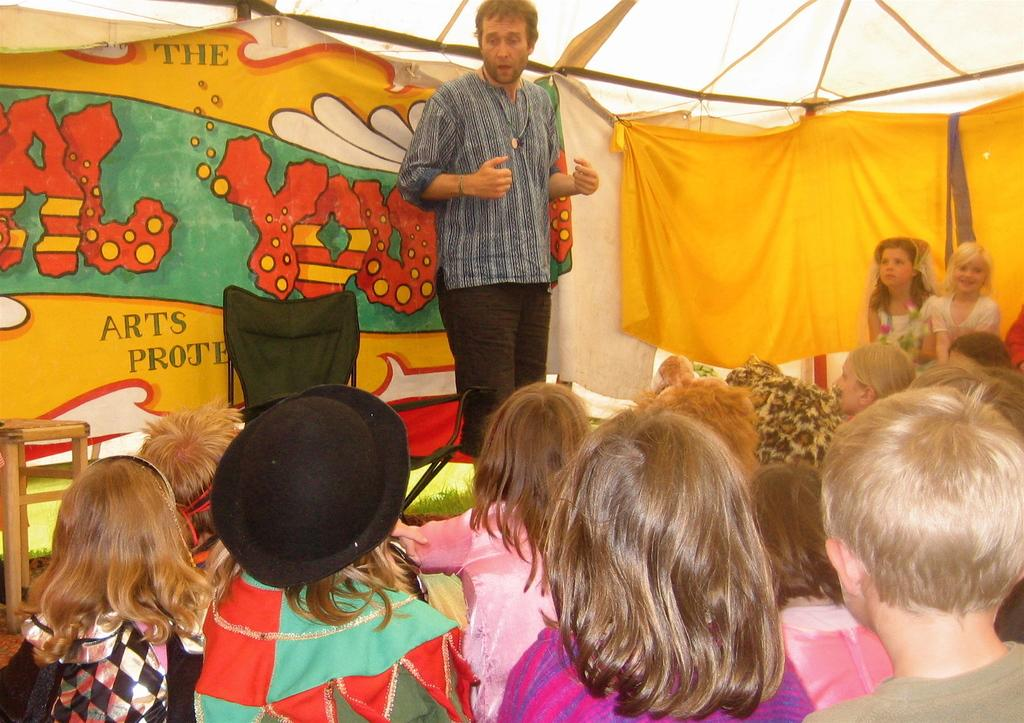Hat: (210, 385, 408, 588), (724, 353, 844, 469)
